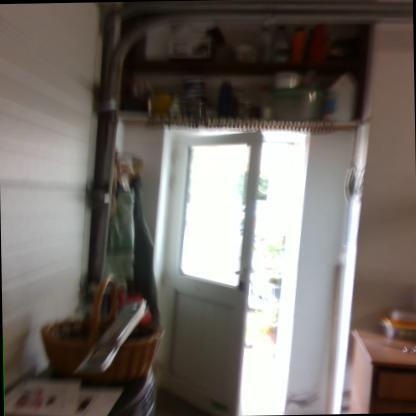semi: (148, 122, 322, 415)
